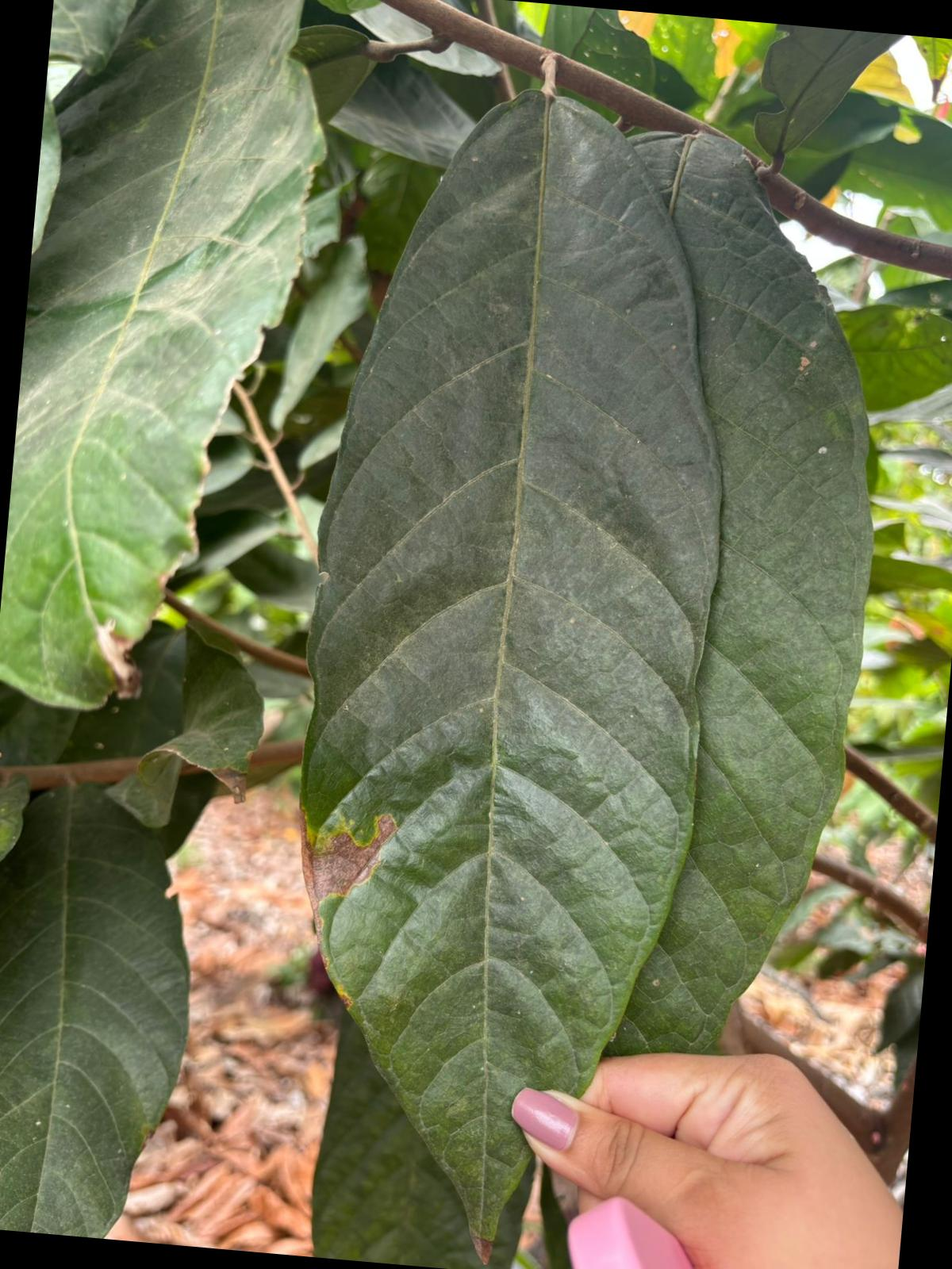Potasio: (301, 90, 720, 1255)
